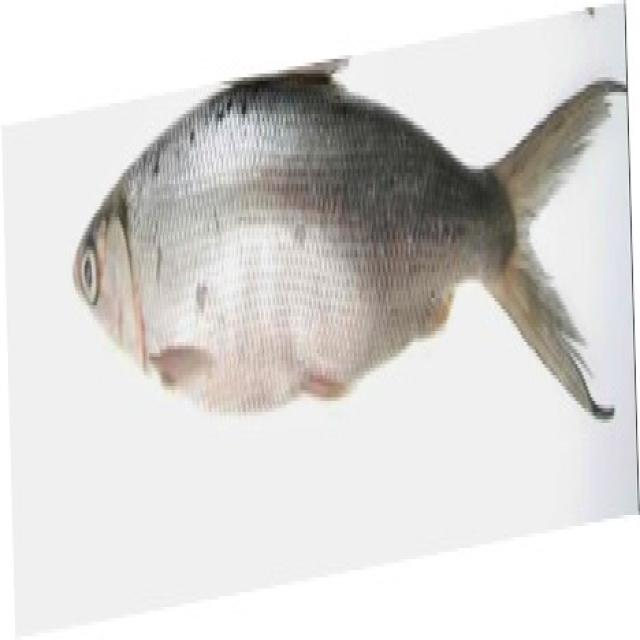Bangus: (54, 24, 640, 558)
